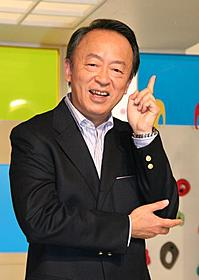face: (63, 27, 133, 116)
hand: (126, 73, 160, 132), (131, 200, 182, 239)
